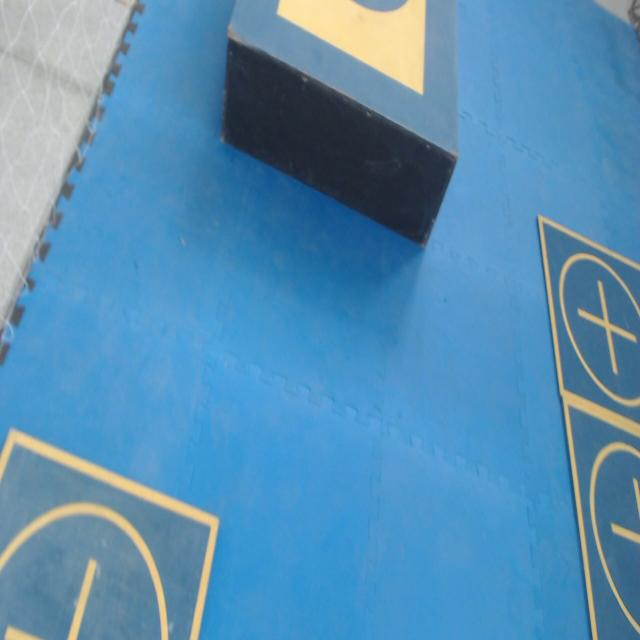base_inicio: (275, 0, 427, 96)
base_pouso: (0, 424, 221, 639), (536, 214, 640, 433), (559, 395, 640, 639)
